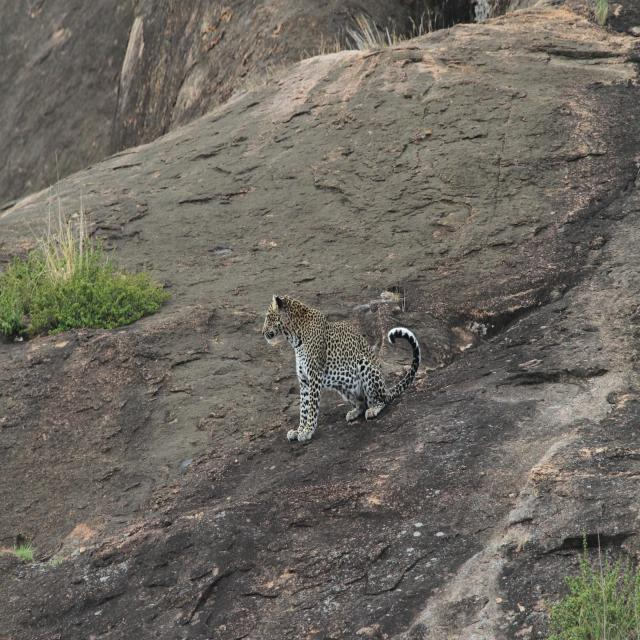Leopard: (248, 294, 422, 439)
